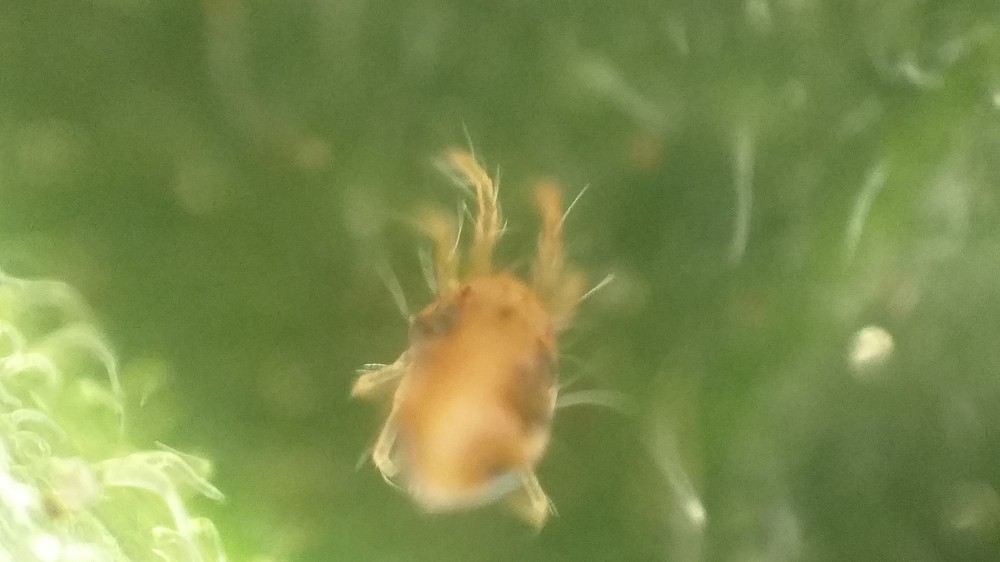Aracnido Rojo: (328, 144, 642, 539)
